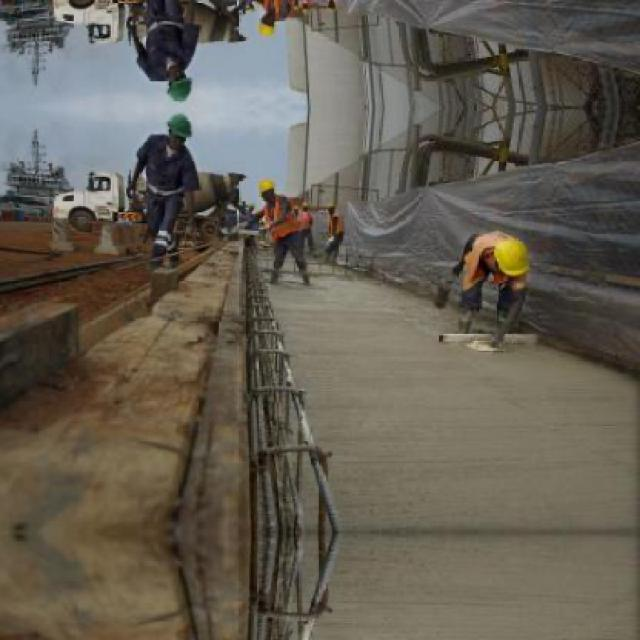con casco: (494, 220, 534, 276)
